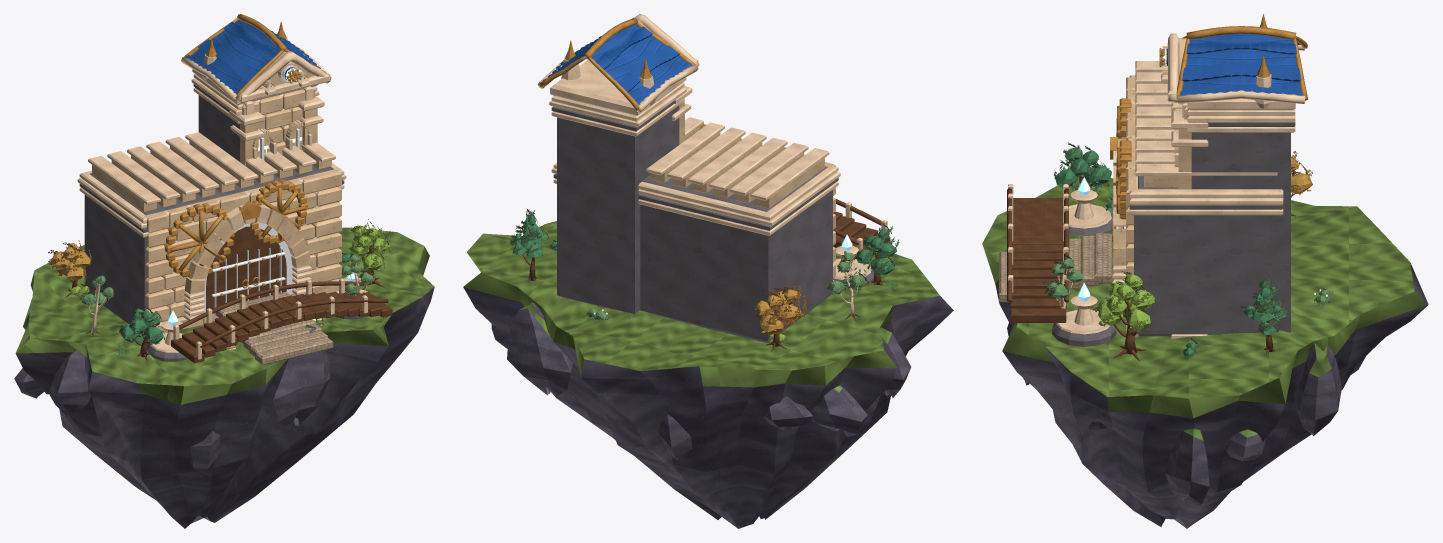
File: island-3-low.glb
3 renders of one model, left to right at view 1: azimuth 30°, elevation 25°; view 2: azimuth 150°, elevation 25°; view 3: azimuth 270°, elevation 25°, orthographic. The views are drawn at different scales.
Parts seen in each view (by area): view 1: Stratified cliffs and meadow / cliff, Stratified cliffs and meadow / top, Architecture / stone, Architecture / trim, Architecture / wood, Architecture / joint, Architecture / gold, Canopy oak / leaves, Architecture / roof, Architecture / paving, Canopy oak / sprays, Architecture / iron (+1 smaller); view 2: Stratified cliffs and meadow / cliff, Architecture / joint, Stratified cliffs and meadow / top, Architecture / trim, Architecture / roof, Canopy oak / leaves, Architecture / stone, Canopy oak / sprays, Architecture / wood, Architecture / gold; view 3: Stratified cliffs and meadow / top, Stratified cliffs and meadow / cliff, Architecture / joint, Architecture / trim, Architecture / wood, Architecture / roof, Canopy oak / leaves, Architecture / stone, Architecture / gold, Canopy oak / sprays, Architecture / paving.
Boxes of the visible parts, x1,y1,x2,y2 form: Stratified cliffs and meadow / cliff: [14, 287, 434, 528]; Stratified cliffs and meadow / top: [16, 227, 434, 404]; Architecture / stone: [92, 51, 341, 333]; Architecture / trim: [77, 36, 373, 359]; Architecture / wood: [53, 224, 392, 363]; Architecture / joint: [79, 84, 369, 361]; Architecture / gold: [163, 14, 328, 348]; Canopy oak / leaves: [50, 225, 389, 357]; Architecture / roof: [185, 19, 324, 93]; Architecture / paving: [215, 292, 333, 364]; Canopy oak / sprays: [48, 219, 391, 344]; Architecture / iron: [211, 76, 322, 349]; Stratified cliffs and meadow / cliff: [463, 287, 953, 528]; Architecture / joint: [551, 100, 874, 342]; Stratified cliffs and meadow / top: [463, 221, 939, 392]; Architecture / trim: [537, 14, 887, 317]; Architecture / roof: [543, 24, 691, 104]; Canopy oak / leaves: [512, 212, 897, 342]; Architecture / stone: [638, 20, 835, 280]; Canopy oak / sprays: [510, 209, 899, 342]; Architecture / wood: [514, 199, 890, 351]; Architecture / gold: [539, 18, 786, 150]; Stratified cliffs and meadow / top: [982, 176, 1428, 440]; Stratified cliffs and meadow / cliff: [995, 263, 1428, 528]; Architecture / joint: [1052, 122, 1295, 346]; Architecture / trim: [1008, 33, 1305, 338]; Architecture / wood: [1007, 149, 1308, 361]; Architecture / roof: [1179, 33, 1302, 95]; Canopy oak / leaves: [1046, 147, 1330, 356]; Architecture / stone: [1113, 38, 1191, 336]; Architecture / gold: [1110, 14, 1307, 241]; Canopy oak / sprays: [1041, 142, 1333, 359]; Architecture / paving: [999, 233, 1111, 302].
Size of the model in its own units: 6.13 by 6.57 by 4.86.
21 materials, 12 textured.
